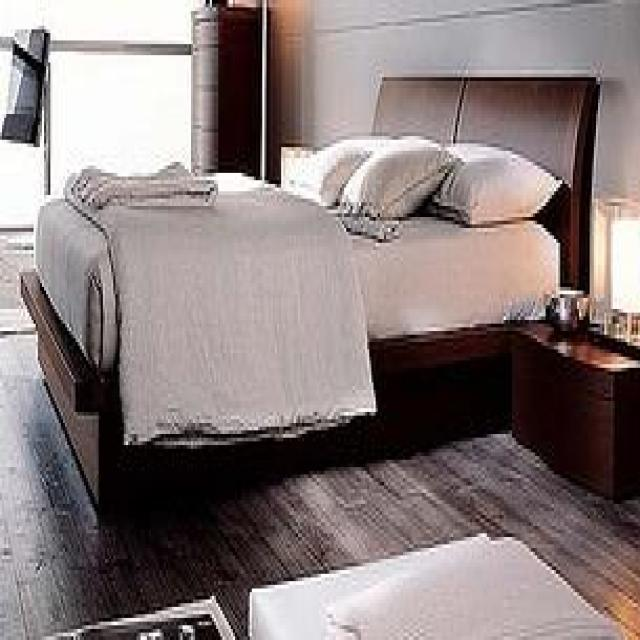bed: (21, 78, 602, 524)
